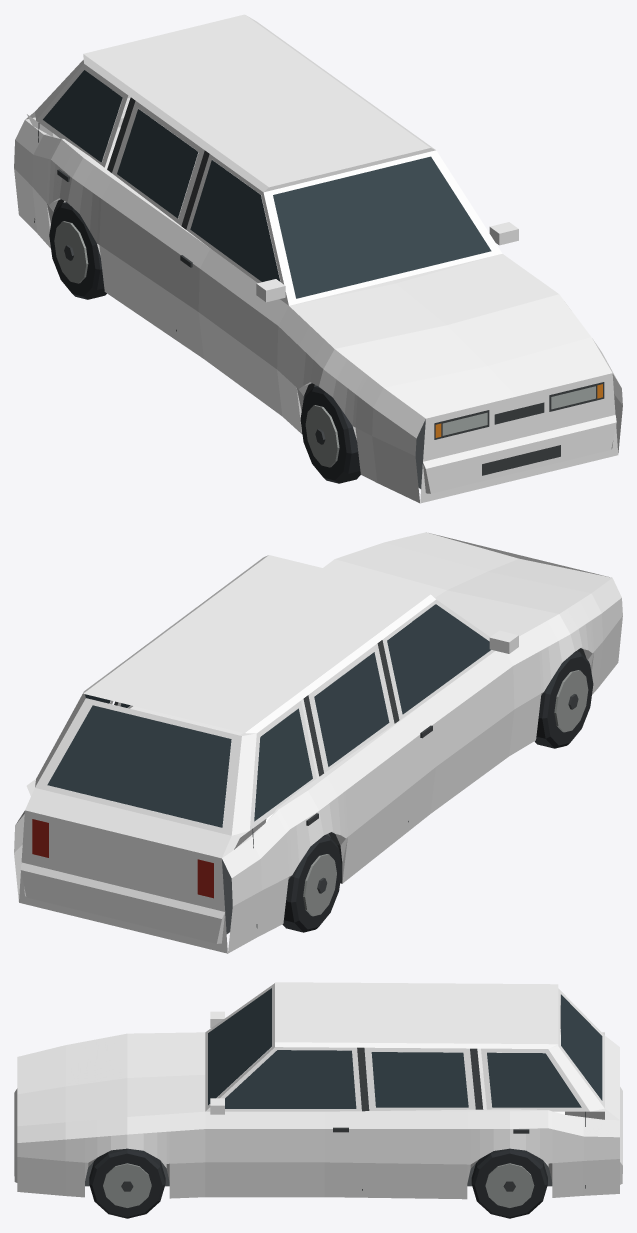
Rendered from hoshino_senko_s_ii.glb.
3 renders of one model, top to bottom at view 1: azimuth 30°, elevation 25°; view 2: azimuth 150°, elevation 25°; view 3: azimuth 270°, elevation 25°, orthographic. The views are drawn at different scales.
Visible parts, largest first — view 1: hoshino_senko_s_ii; view 2: hoshino_senko_s_ii; view 3: hoshino_senko_s_ii.
Boxes of the visible parts, x1,y1,x2,y2 form: hoshino_senko_s_ii: (14, 14, 622, 503); hoshino_senko_s_ii: (14, 532, 622, 953); hoshino_senko_s_ii: (14, 982, 622, 1218).
Bounding box in the file's own units: 1.83 × 1.45 × 4.95.
8 materials, 1 textured.
